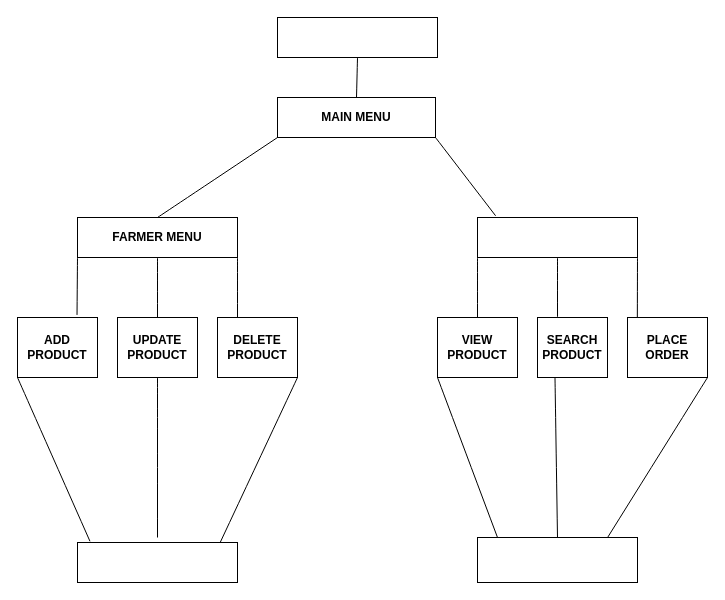
This 725x600 diagram has some shape labels left out. The centre of each missing label's shape, as x and y in pixels:
"BUYER MENU" goes at point (557, 237).
"ORDER STORAGE" goes at point (557, 559).
"PRODUCT STORAGE" goes at point (157, 562).
"USER" goes at point (357, 37).
